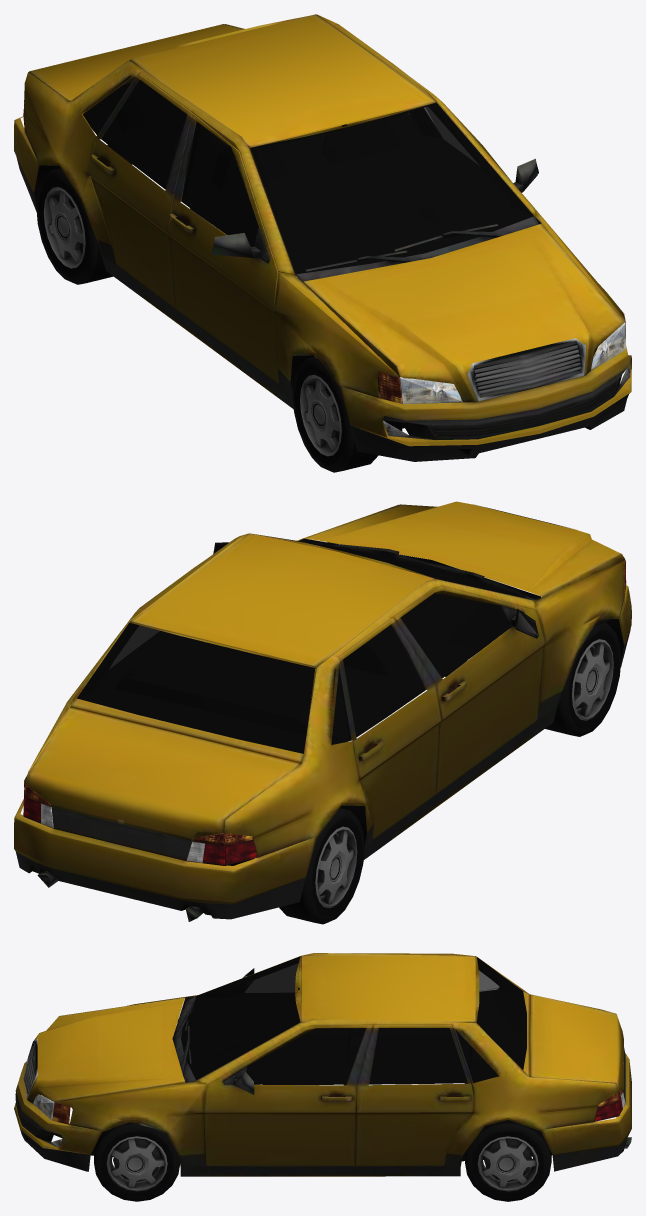
File: taxi_lo.glb
The picture shows the model from 3 angles, top to bottom: view 1: azimuth 30°, elevation 25°; view 2: azimuth 150°, elevation 25°; view 3: azimuth 270°, elevation 25°; orthographic projection. The views are drawn at different scales.
Visible parts, largest first — view 1: body, wheel_fr, wheel_rr; view 2: body, wheel_rr, wheel_fr; view 3: body, wheel_rl, wheel_fl.
Boxes of the visible parts, x1=… form: body: x1=14, y1=14, x2=631, y2=461; wheel_fr: x1=292, y1=356, x2=384, y2=472; wheel_rr: x1=36, y1=168, x2=113, y2=284; body: x1=14, y1=501, x2=631, y2=921; wheel_rr: x1=279, y1=807, x2=364, y2=924; wheel_fr: x1=545, y1=622, x2=621, y2=736; body: x1=14, y1=953, x2=631, y2=1176; wheel_rl: x1=465, y1=1120, x2=551, y2=1201; wheel_fl: x1=94, y1=1122, x2=180, y2=1201.
Size of the model in its own units: 2.08 by 1.44 by 4.68.
Materials: 4 (3 with a texture image).
